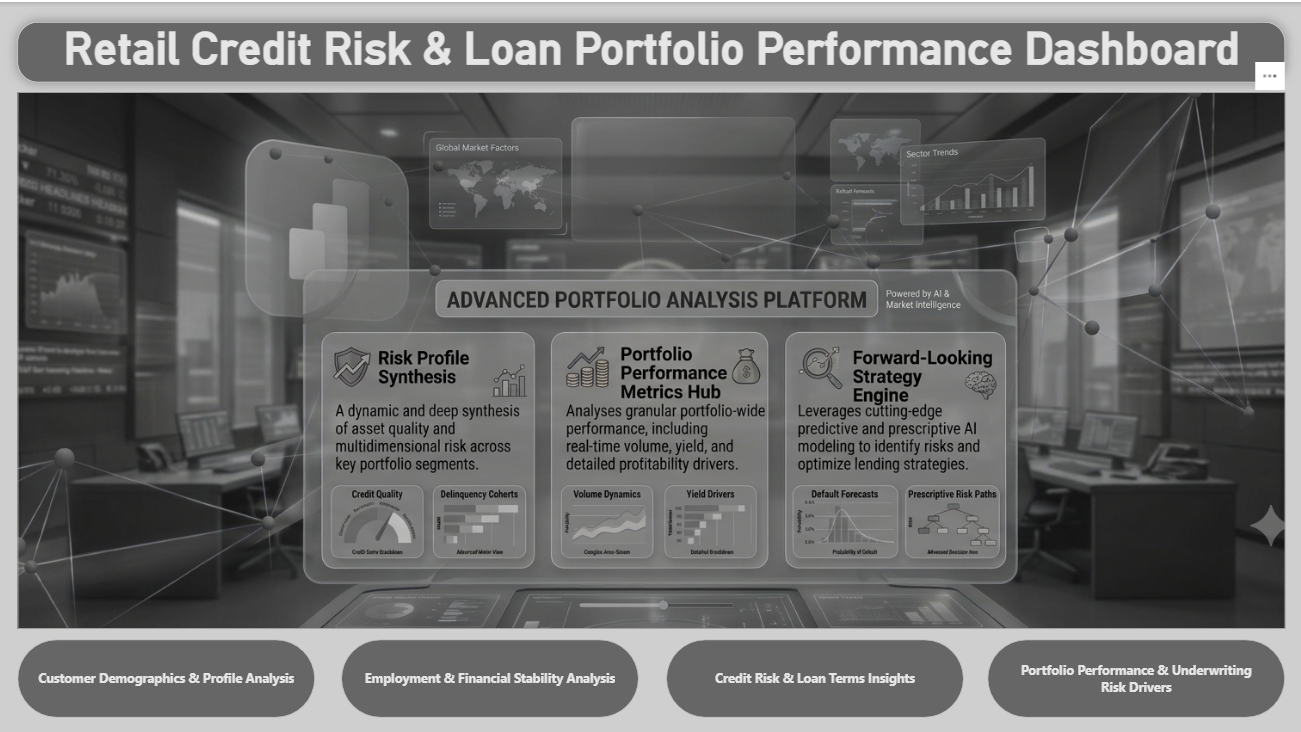

The dashboard page shown, as its layout file describes it:
{"tool":"powerbi","page":{"name":"Title - Credit Risk & Loan Portfolio","canvas":[1920,1080],"ordinal":0},"visuals":[{"type":"textbox","title":"Retail Credit Risk & Loan Portfolio Performance Dashboard","box":[26.6,28.8,1866.4,88.6],"z":0},{"type":"image","box":[26.6,132.8,1866.4,790.4],"z":1000},{"type":"pageNavigator","title":"Dashboard 1","box":[26.6,938.7,438.4,115.1],"z":2000},{"type":"pageNavigator","box":[1454.6,938.7,438.4,115.1],"z":3000},{"type":"pageNavigator","box":[502.6,938.7,438.4,115.1],"z":4000},{"type":"pageNavigator","box":[980.8,938.7,438.4,115.1],"z":5000}]}

Visuals, with their boxes in screenshot pixels (x1, y1, x2, y2), scaled from the page's 1920x1080 canvas onto the 1301x732 screenshot:
"Retail Credit Risk & Loan Portfolio Performance Dashboard" textbox: select_region(18, 20, 1283, 80)
image: select_region(18, 90, 1283, 626)
"Dashboard 1" pageNavigator: select_region(18, 636, 315, 714)
pageNavigator: select_region(986, 636, 1283, 714)
pageNavigator: select_region(341, 636, 638, 714)
pageNavigator: select_region(665, 636, 962, 714)
